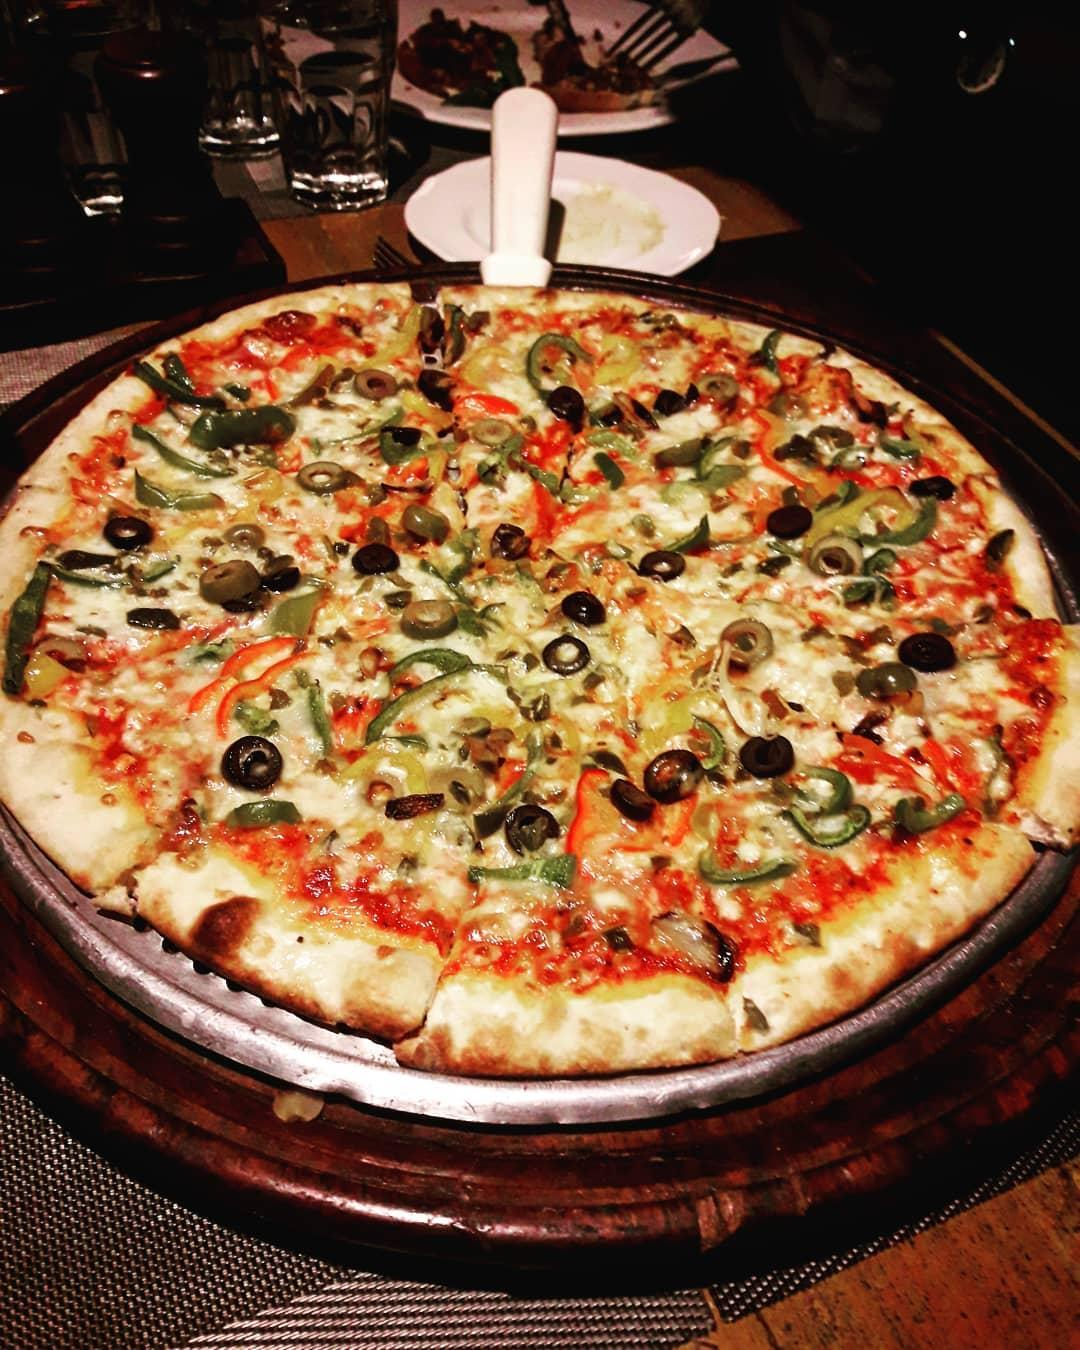Olives: (321, 358, 463, 407), (187, 398, 296, 457), (461, 795, 561, 854), (521, 361, 601, 435), (218, 733, 291, 798), (618, 375, 734, 415), (395, 298, 474, 350), (88, 498, 154, 560), (648, 748, 699, 808), (205, 558, 263, 608), (714, 612, 769, 661), (399, 597, 461, 641), (901, 618, 955, 668), (495, 515, 536, 577), (856, 666, 921, 704), (345, 538, 401, 580), (558, 581, 605, 630), (908, 467, 962, 510), (242, 562, 307, 597), (768, 495, 813, 544), (748, 731, 789, 785), (401, 508, 452, 551), (768, 428, 818, 471), (601, 778, 654, 817), (301, 454, 349, 495), (638, 541, 676, 588), (543, 635, 591, 671)
Peppers: (361, 655, 554, 806), (703, 764, 864, 908), (467, 431, 749, 510), (796, 468, 948, 612), (119, 396, 261, 511), (1, 544, 87, 722), (255, 641, 367, 766), (515, 317, 596, 418)
Pizza: (1, 289, 1080, 1088)
